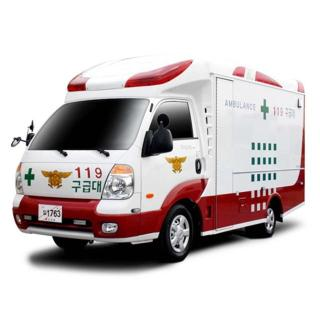Ambulance: (8, 18, 306, 278)
